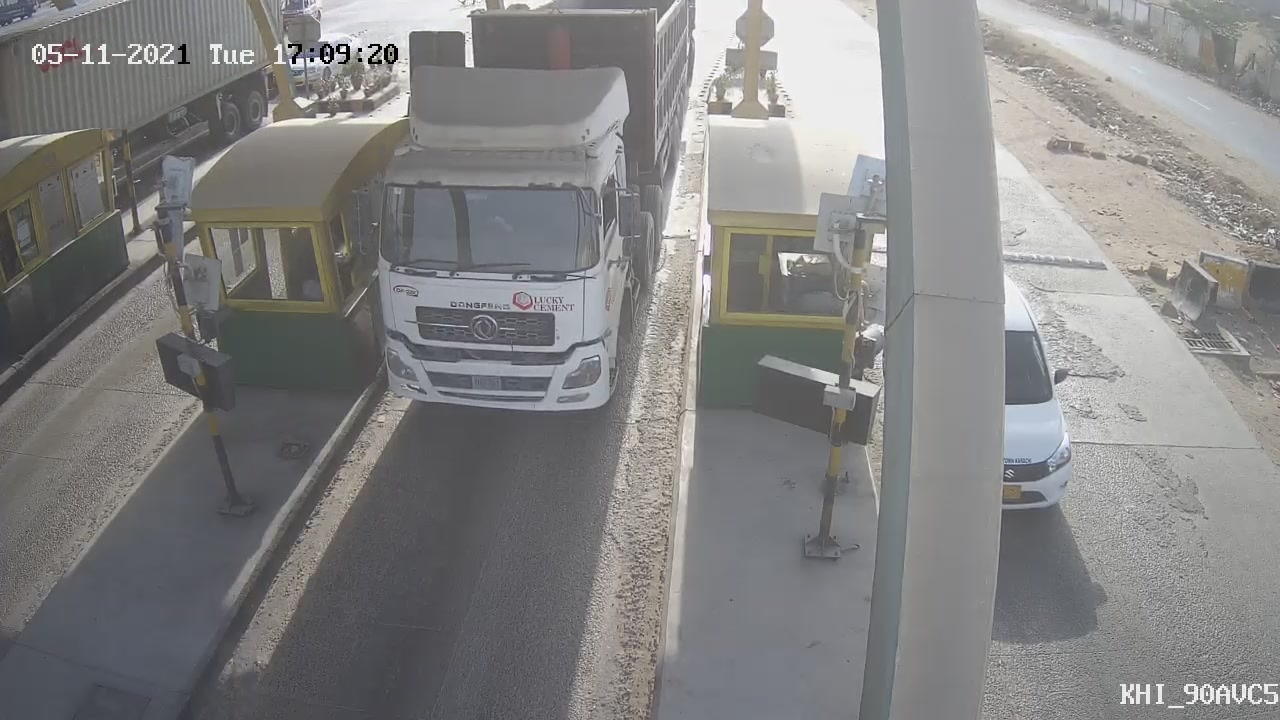F6: (324, 1, 709, 434)
